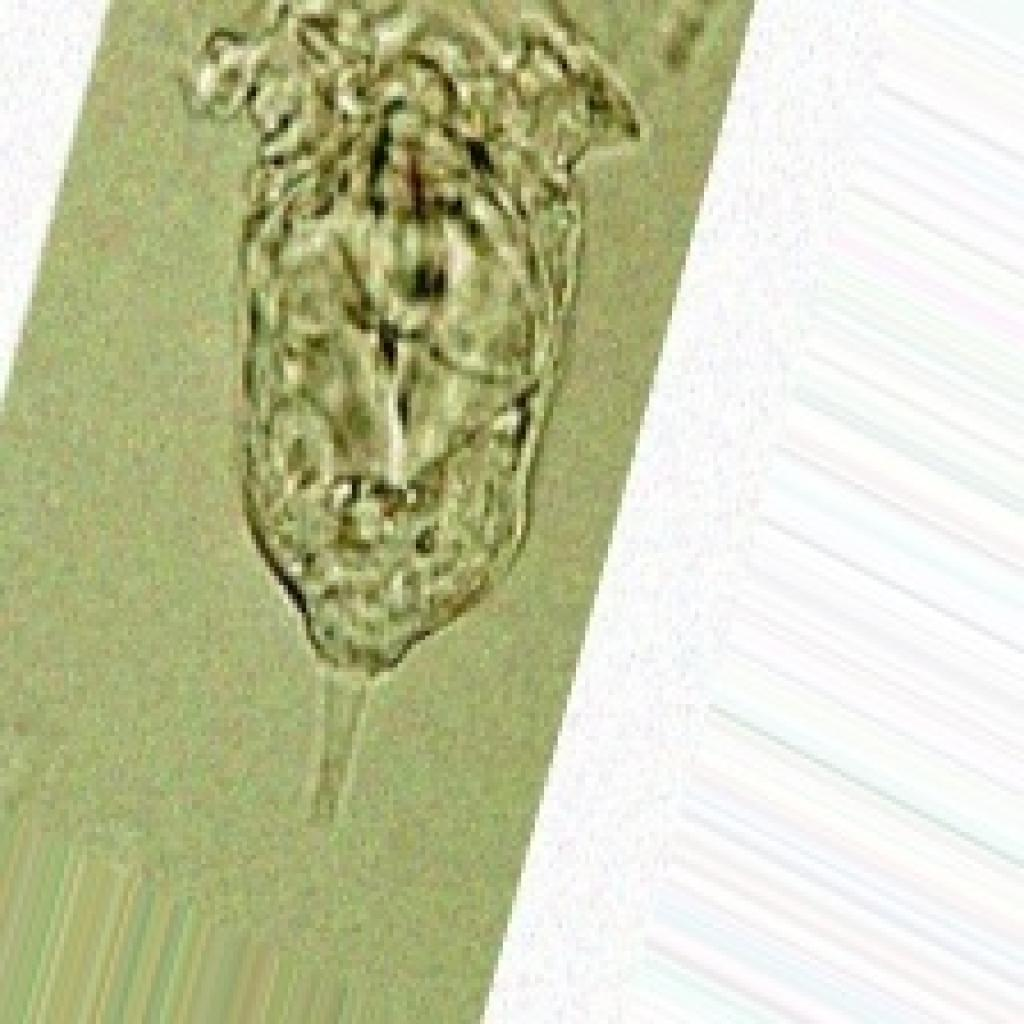Rotifer: (133, 0, 680, 838)
